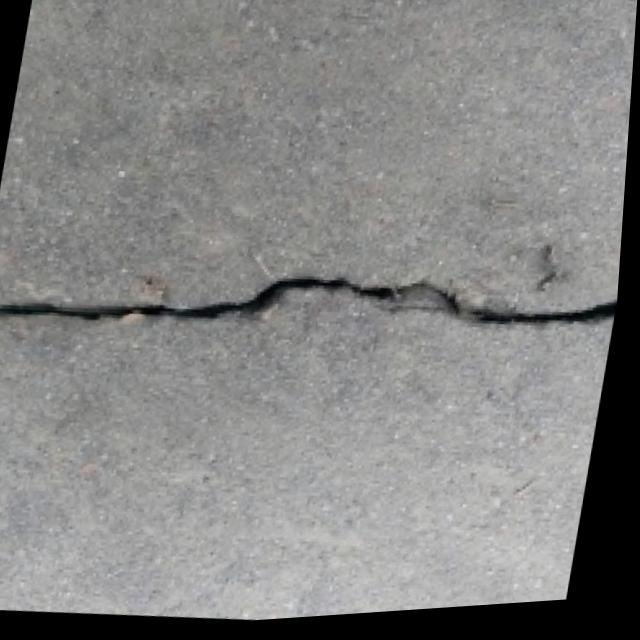Crack: (0, 183, 629, 435)
